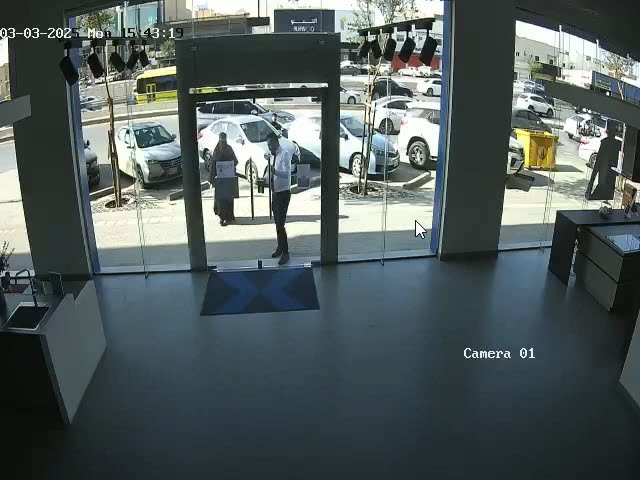employee: (264, 131, 293, 265)
female: (209, 132, 239, 225)
